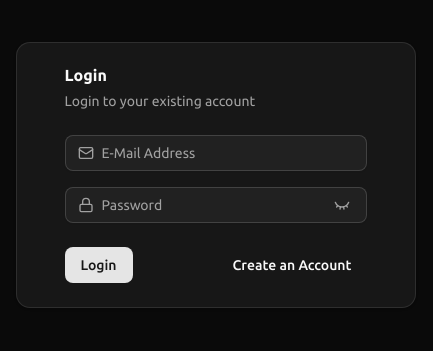
Scenario: Auth Page › toggles to signup mode
Click the button "Create an Account" at x=292, y=265, box 216,247 -> 367,283
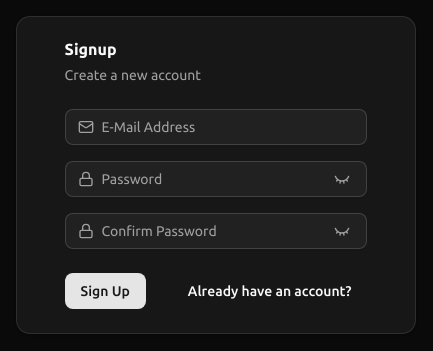
expect the text "Signup" is shown: met, box 65,40 -> 117,58
expect the password field with placeholder "Confirm Password" is shown: met, box 94,213 -> 322,249
